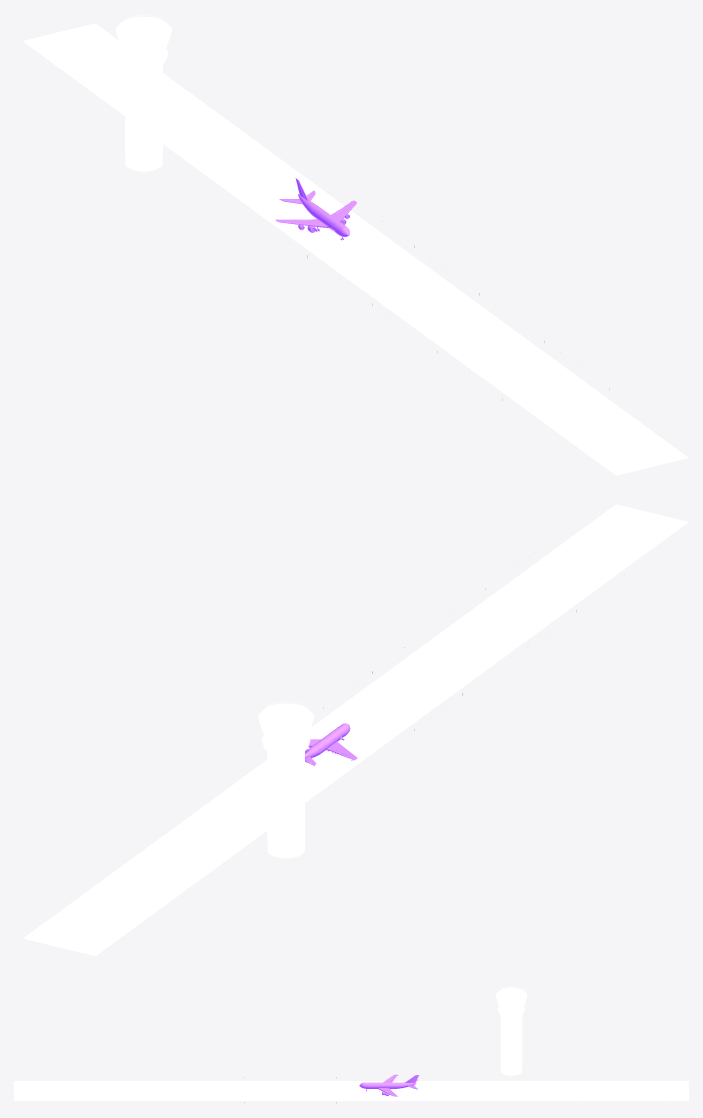
File: delivery-a-draco.gltf
3 renders of one model, top to bottom at view 1: azimuth 30°, elevation 25°; view 2: azimuth 150°, elevation 25°; view 3: azimuth 270°, elevation 25°, orthographic. The views are drawn at different scales.
Visible parts, largest first — view 1: landing lane, tower; view 2: landing lane, tower; view 3: landing lane, tower, body.001.
Part boxes in pixels (x1,y1,x2,y2): landing lane: (22,23,688,475); tower: (116,14,171,171); landing lane: (23,504,688,956); tower: (258,701,313,858); landing lane: (14,1081,688,1100); tower: (495,986,527,1075); body.001: (359,1082,416,1088).
Size of the model in its own units: 7775 by 7428 by 56535.
